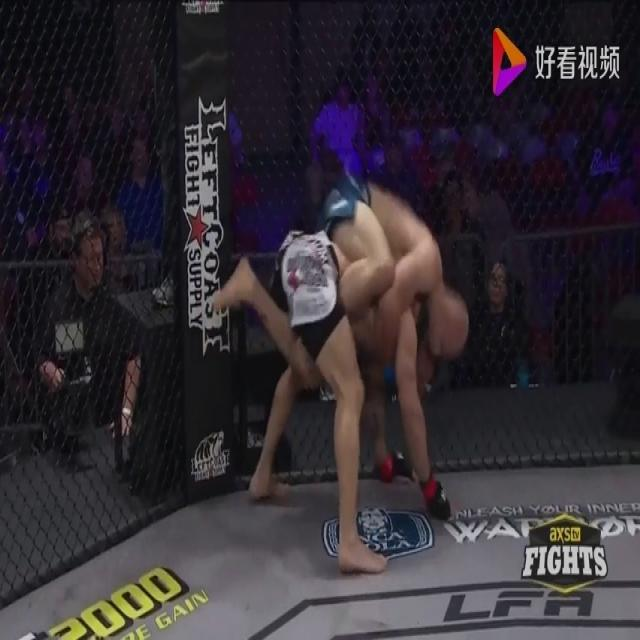fight: (207, 141, 470, 580)
